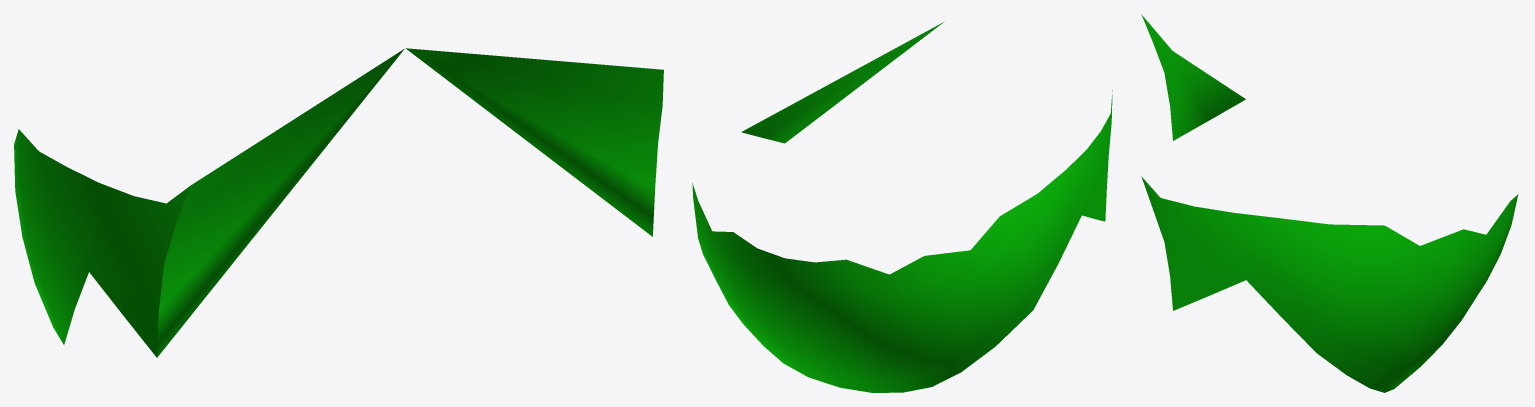
File: Hair2_114.glb
3 views of the same model, side by side, from view 1: azimuth 30°, elevation 25°; view 2: azimuth 150°, elevation 25°; view 3: azimuth 270°, elevation 25° (orthographic). The views are drawn at different scales.
Size of the model in its own units: 53.05 by 42.65 by 46.67.
